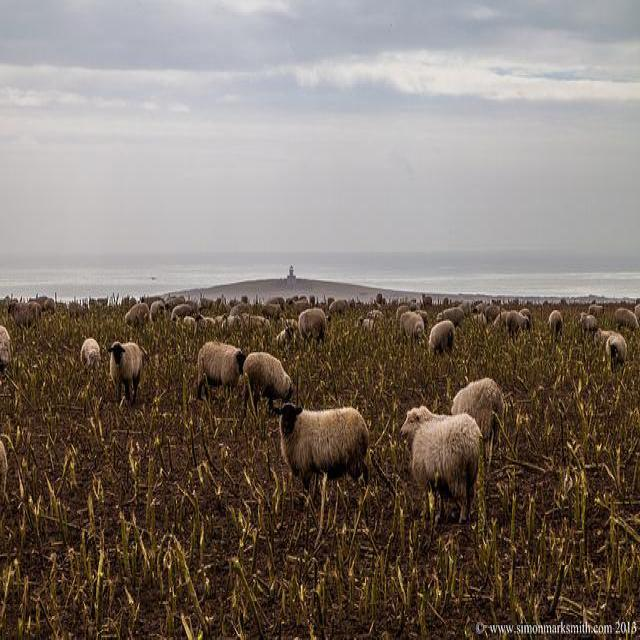Sheep: (1, 286, 639, 492), (401, 403, 486, 528), (275, 402, 370, 506), (454, 378, 505, 470), (240, 350, 296, 420), (196, 342, 245, 400), (108, 343, 143, 403)
